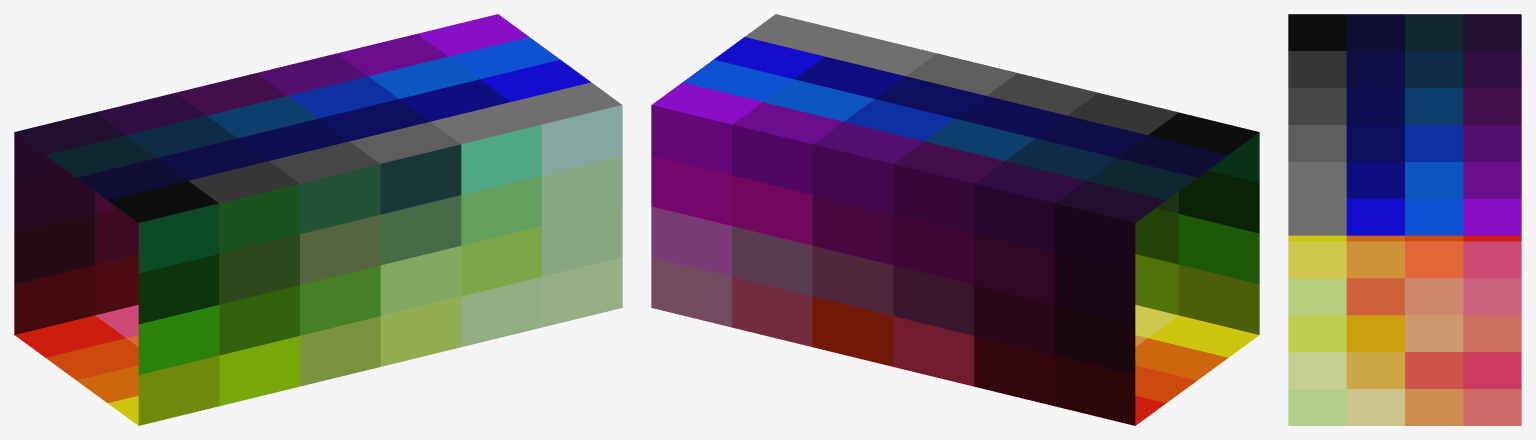
Rendered from room001.glb.
3 renders of one model, left to right at view 1: azimuth 30°, elevation 25°; view 2: azimuth 150°, elevation 25°; view 3: azimuth 270°, elevation 25°, orthographic. The views are drawn at different scales.
Visible parts, largest first — view 1: Plane; view 2: Plane; view 3: Plane.
Part boxes in pixels (x1=…): Plane: x1=14, y1=14, x2=622, y2=425; Plane: x1=651, y1=14, x2=1259, y2=425; Plane: x1=1288, y1=14, x2=1521, y2=425.
Size of the model in its own units: 90 by 36.07 by 40.
